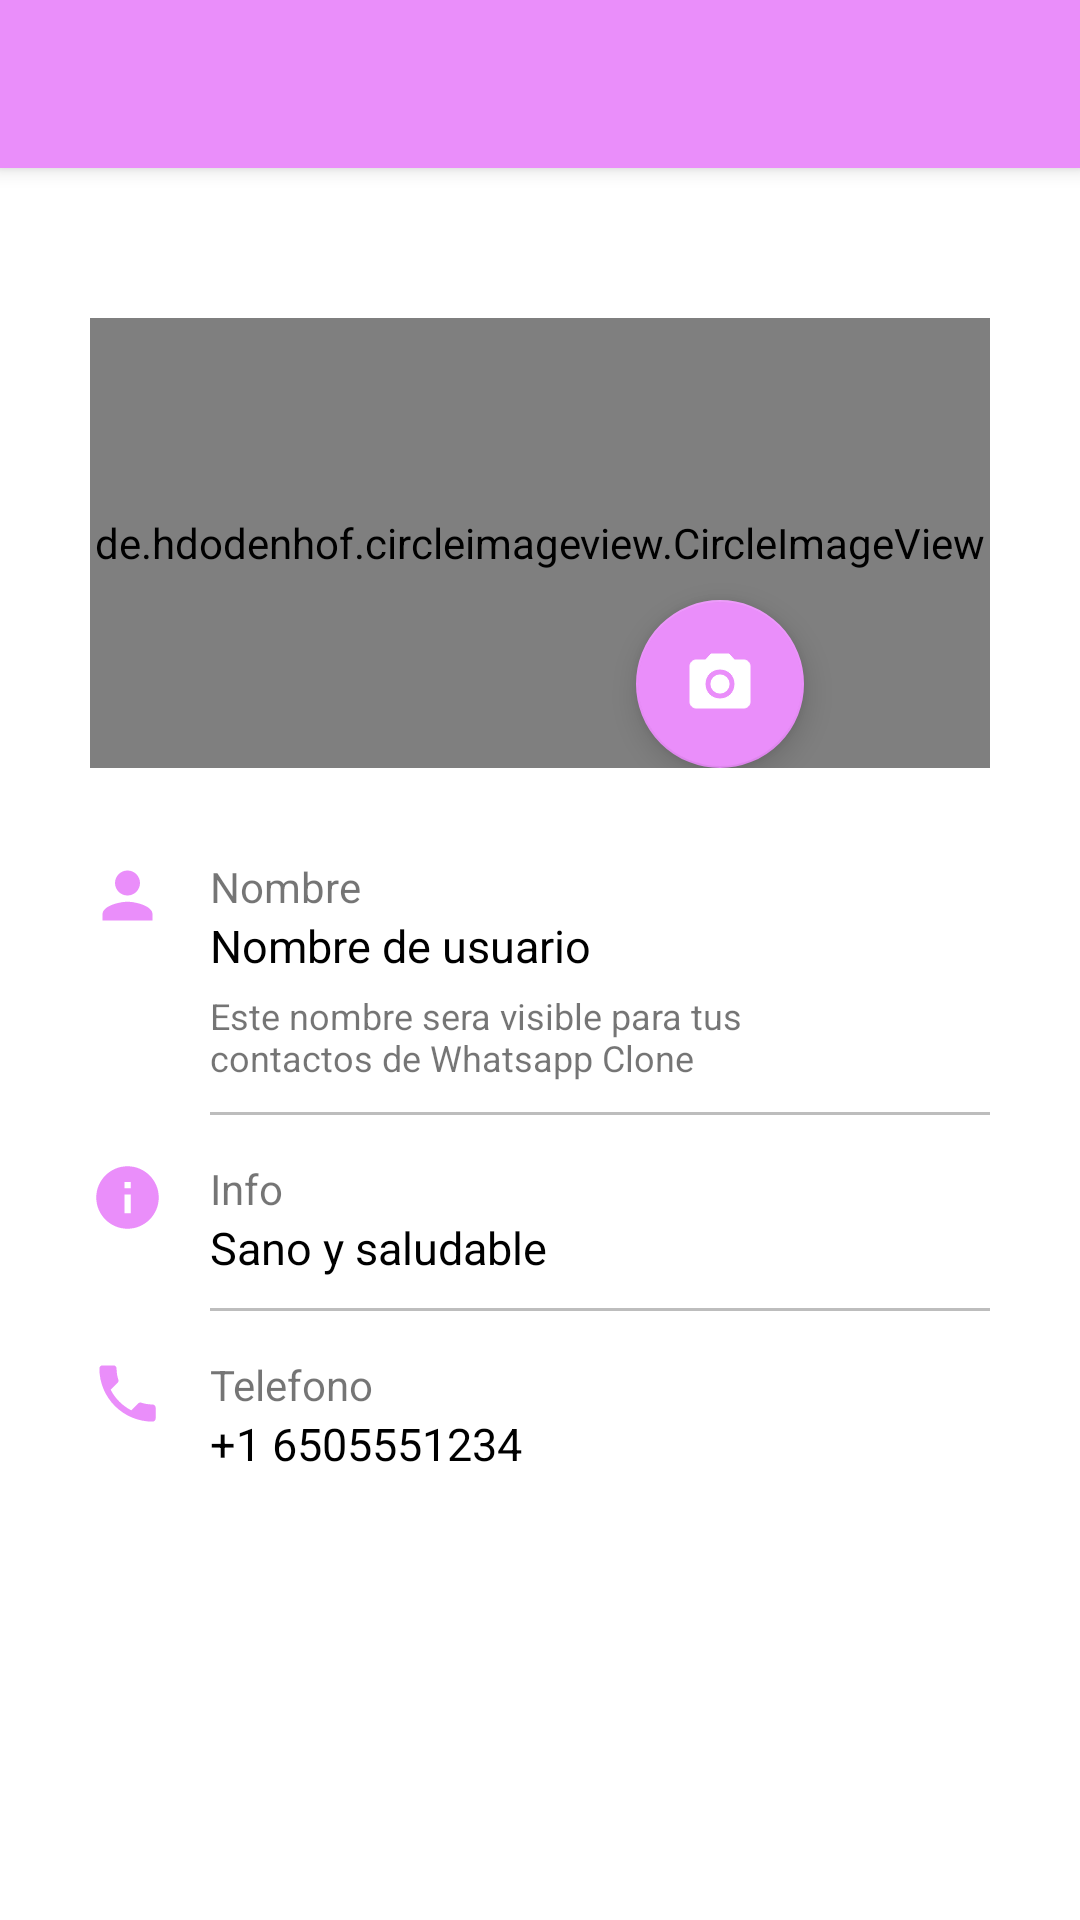

Where icons sit on this 1080 × 1920 app screen, as (x1, y1, x2, y2):
camera: (636, 600, 804, 768)
person: (102, 870, 153, 921)
phone: (99, 1365, 156, 1422)
